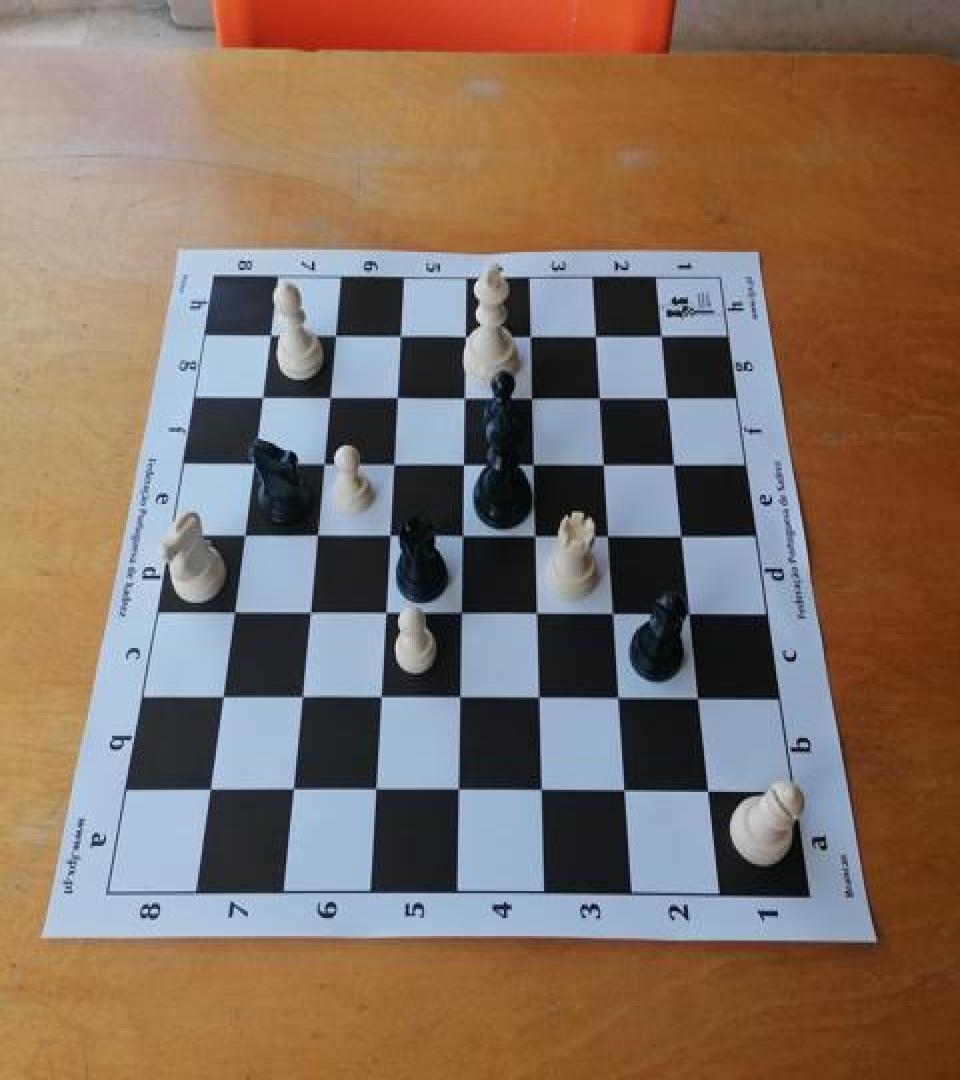xcorner: (192, 770, 222, 804), (276, 770, 306, 804), (360, 770, 390, 804), (444, 772, 474, 806), (528, 772, 558, 806), (611, 773, 641, 807), (695, 773, 725, 807), (205, 676, 235, 710), (285, 677, 315, 711), (365, 677, 395, 711), (445, 678, 475, 712), (525, 678, 555, 712), (605, 680, 635, 714), (685, 680, 715, 714), (370, 593, 400, 627), (446, 593, 476, 627), (523, 594, 553, 628), (600, 594, 630, 628), (676, 595, 706, 629), (227, 513, 257, 547), (300, 514, 330, 548), (374, 514, 404, 548), (447, 515, 477, 549), (521, 515, 551, 549), (594, 516, 624, 550), (668, 516, 698, 550), (236, 441, 266, 475), (307, 442, 337, 476), (378, 442, 408, 476), (448, 443, 478, 477), (519, 443, 549, 477), (590, 444, 620, 478), (660, 444, 690, 478), (245, 374, 275, 408), (313, 374, 343, 408), (381, 376, 411, 410), (449, 376, 479, 410), (517, 377, 547, 411), (585, 377, 615, 411), (653, 378, 683, 412), (253, 312, 283, 346), (319, 312, 349, 346), (385, 314, 415, 348), (450, 314, 480, 348), (516, 315, 546, 349), (581, 315, 611, 349), (647, 316, 677, 350), (216, 592, 246, 625), (293, 592, 323, 625)
